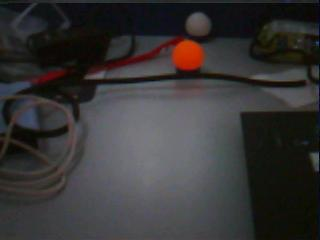oball: (172, 40, 204, 71)
